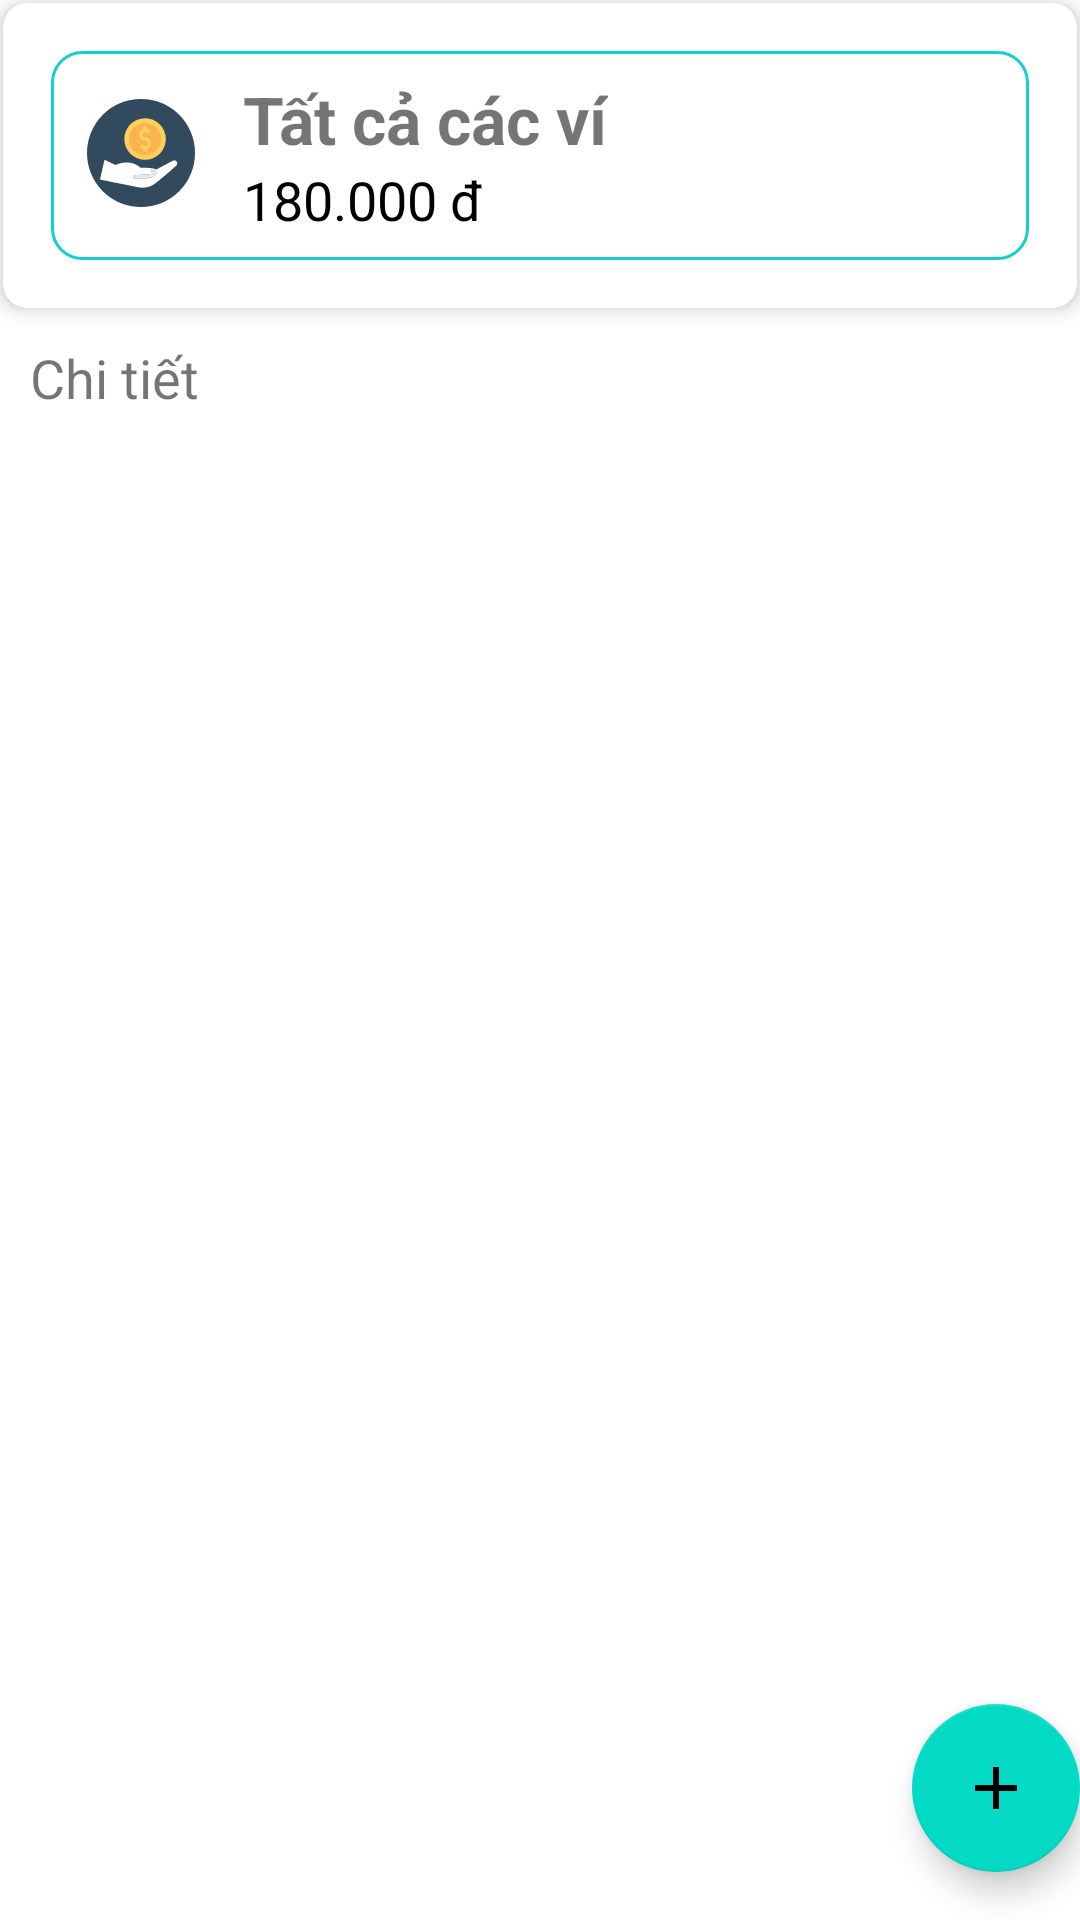

Screen size 1080 × 1920. Icon name, then its center in pixels as (x=x, y=y):
add: (x=996, y=1788)
allwallet: (x=141, y=153)
